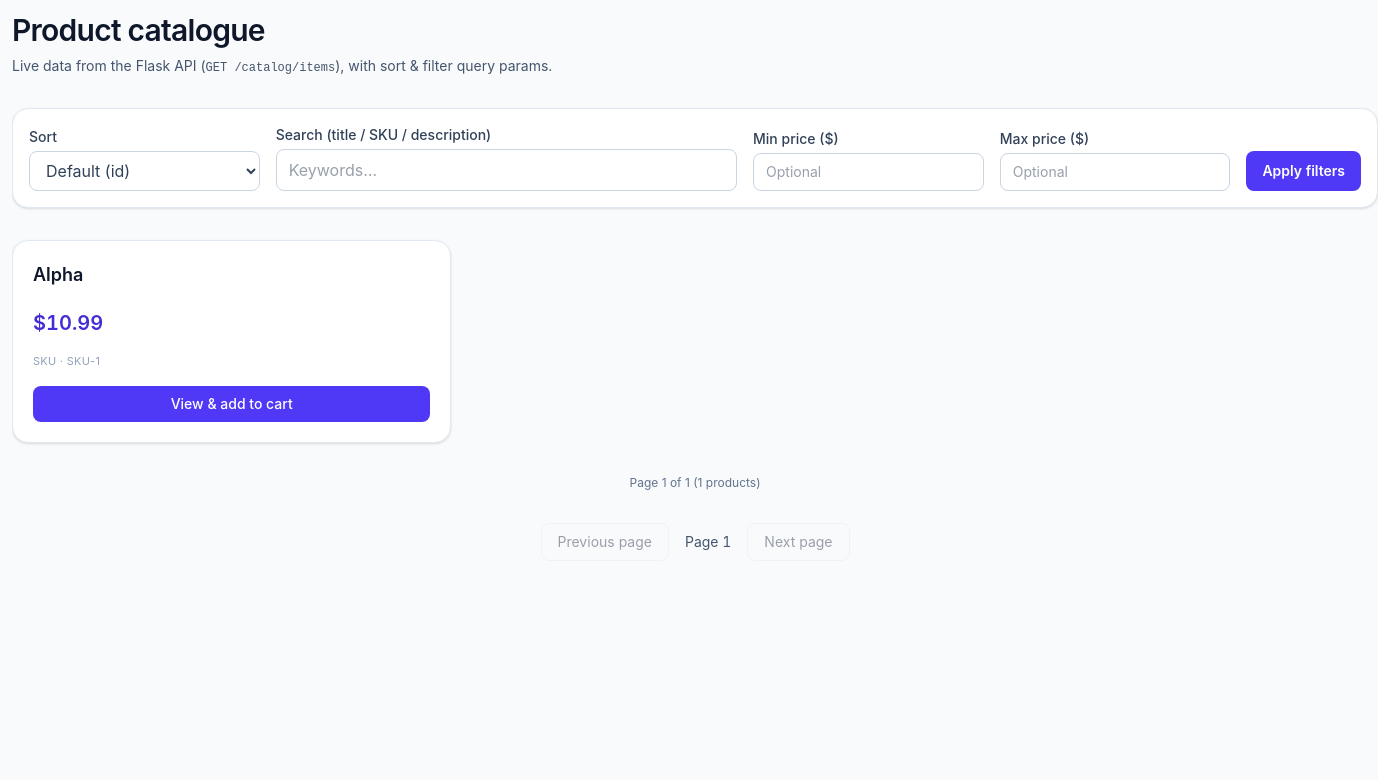
Scenario: CataloguePage › shows toolbar validation when minimum USD exceeds maximum
The width and height of the screenshot is (1378, 780).
Expected: the heading "Alpha" is shown, [33,264,83,285]
Type "40" into the field named "Minimum price USD".
click(868, 172); type("40")  # box [753,153,984,191]
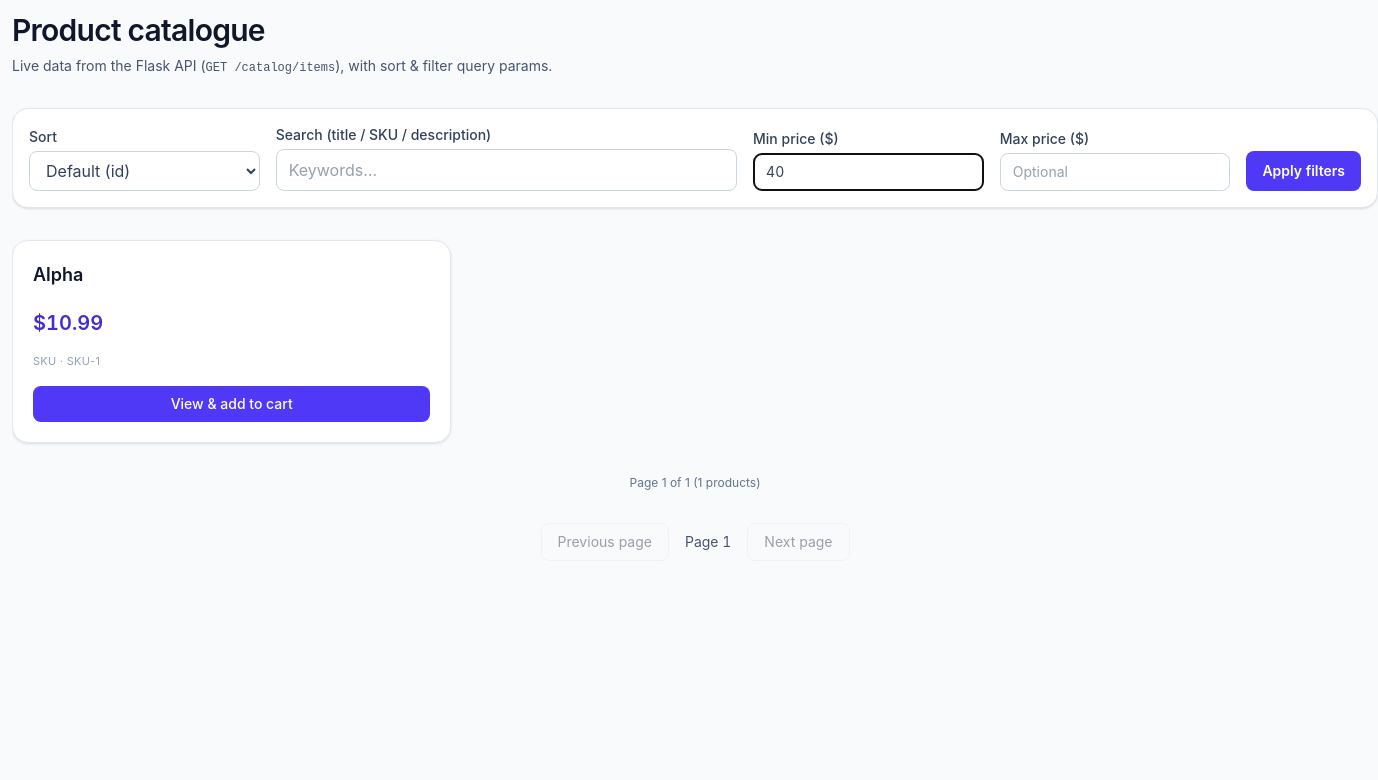
Type "1" into the field named "Maximum price USD".
click(1115, 172); type("1")  # box [1000,153,1230,191]
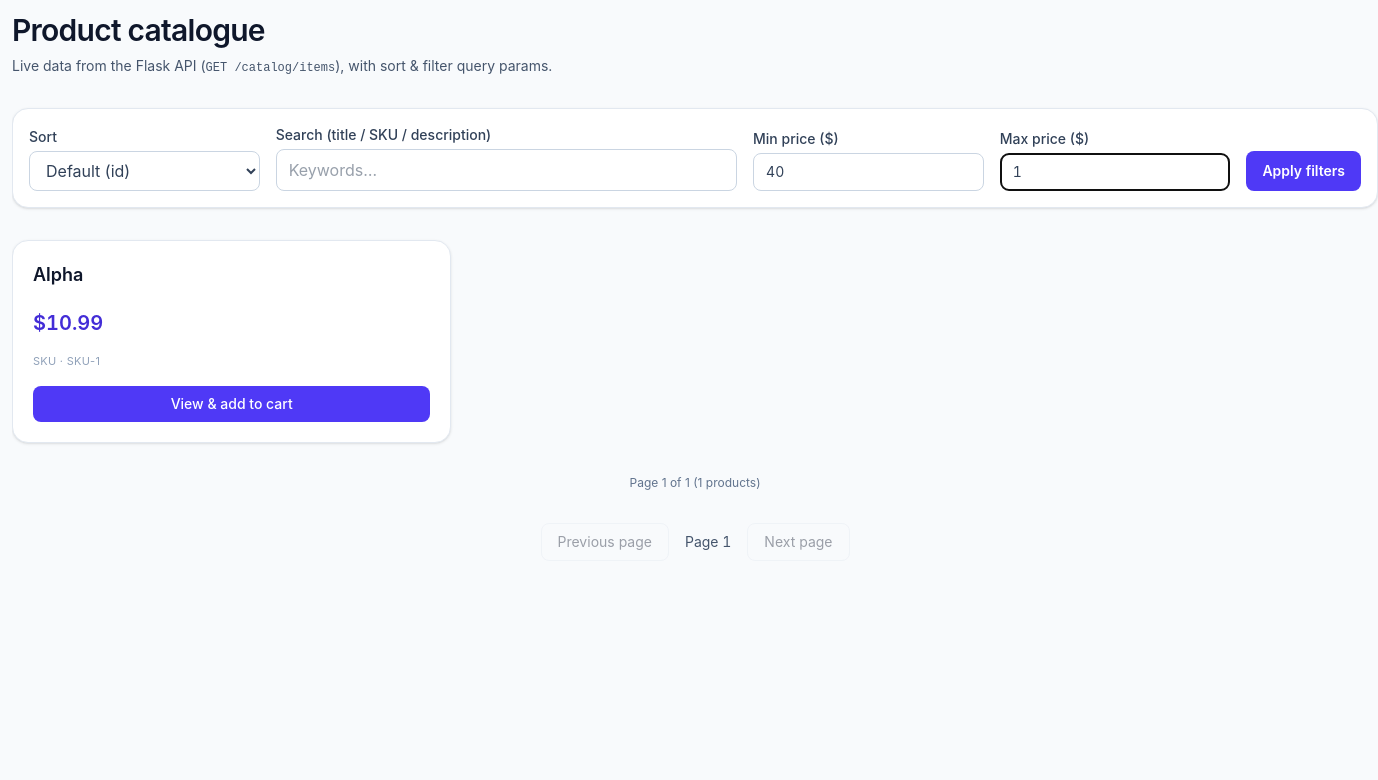
Click the button "Apply filters".
click(1304, 171)  # box [1246,151,1361,191]
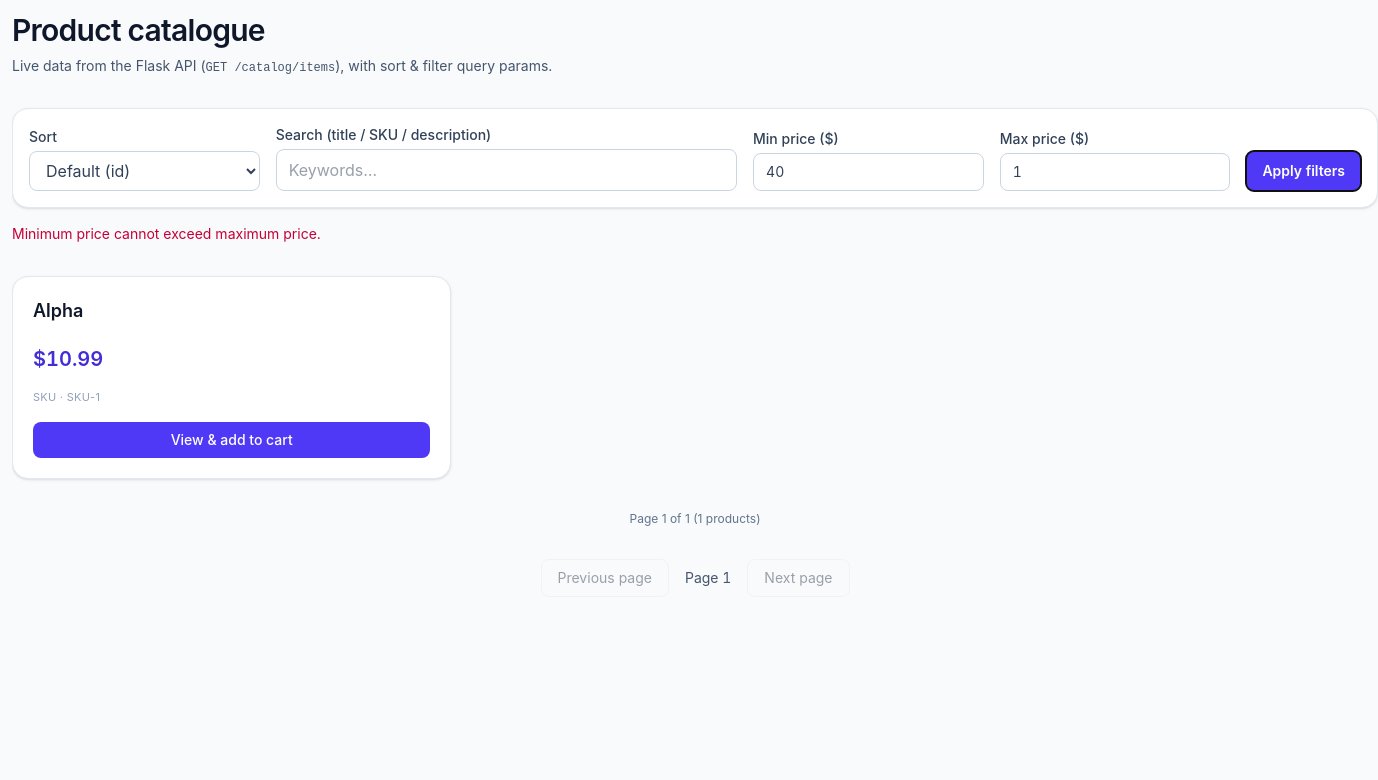
Now the text "Minimum price cannot exceed maximum price." is shown, box [12,225,321,242]
